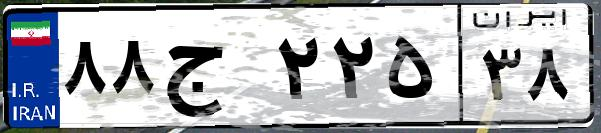2: (270, 28, 330, 110), (330, 28, 385, 110)
3: (475, 38, 525, 113)
5: (385, 28, 445, 110)
8: (57, 26, 110, 100), (525, 38, 570, 115), (110, 28, 158, 98)
ج: (158, 20, 270, 120)
